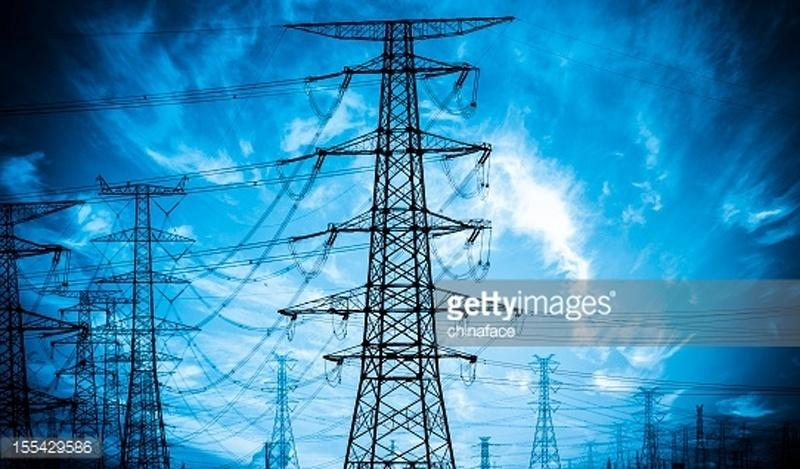power_tower: (271, 11, 510, 465), (96, 153, 206, 463)
